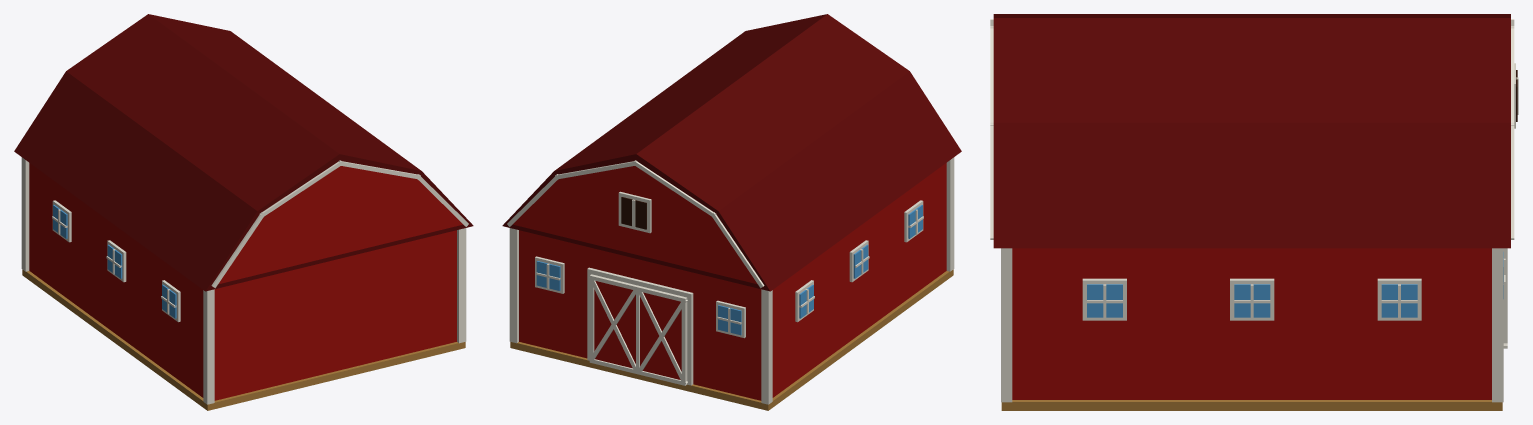
File: RedBarn.obj
The picture shows the model from 3 angles, left to right: view 1: azimuth 30°, elevation 25°; view 2: azimuth 150°, elevation 25°; view 3: azimuth 270°, elevation 25°; orthographic projection. The views are drawn at different scales.
Visible parts, largest first — view 1: RedBarn; view 2: RedBarn; view 3: RedBarn.
Boxes of the visible parts, x1,y1,x2,y2 form: RedBarn: [14, 14, 473, 410]; RedBarn: [502, 14, 961, 410]; RedBarn: [990, 14, 1518, 410].
Size of the model in its own units: 7.17 by 5.81 by 9.04.
